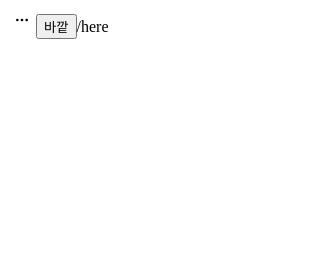
Test: 여닫기 › 열린 채 단추를 다시 누르면 닫힌다
What coordinates should you click on to do the following:
click the button named "더 보기"
I would click on:
 (22, 20)
Its box is [8,8,36,32].
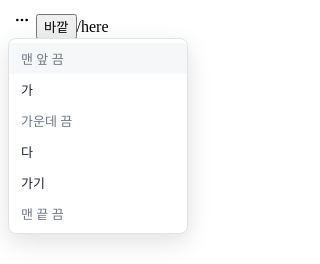
What coordinates should you click on to do the following:
click the button named "더 보기"
I would click on:
 (22, 20)
Its box is [8,8,36,32].
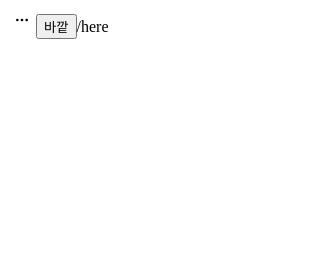
Expected: the menu is gone
